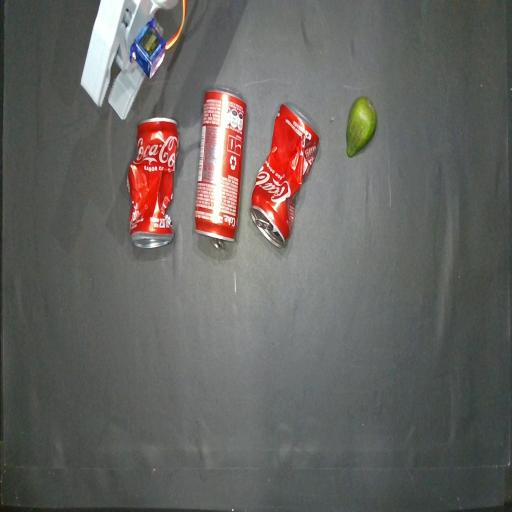higo: (346, 96, 376, 157)
lata: (195, 89, 247, 248)
lata_defectuoso: (250, 104, 319, 247), (128, 118, 179, 247)
